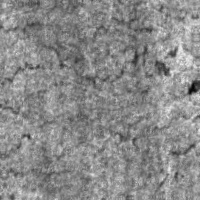crazing: (0, 1, 181, 76), (1, 95, 159, 178), (0, 41, 154, 116), (128, 114, 200, 162)
